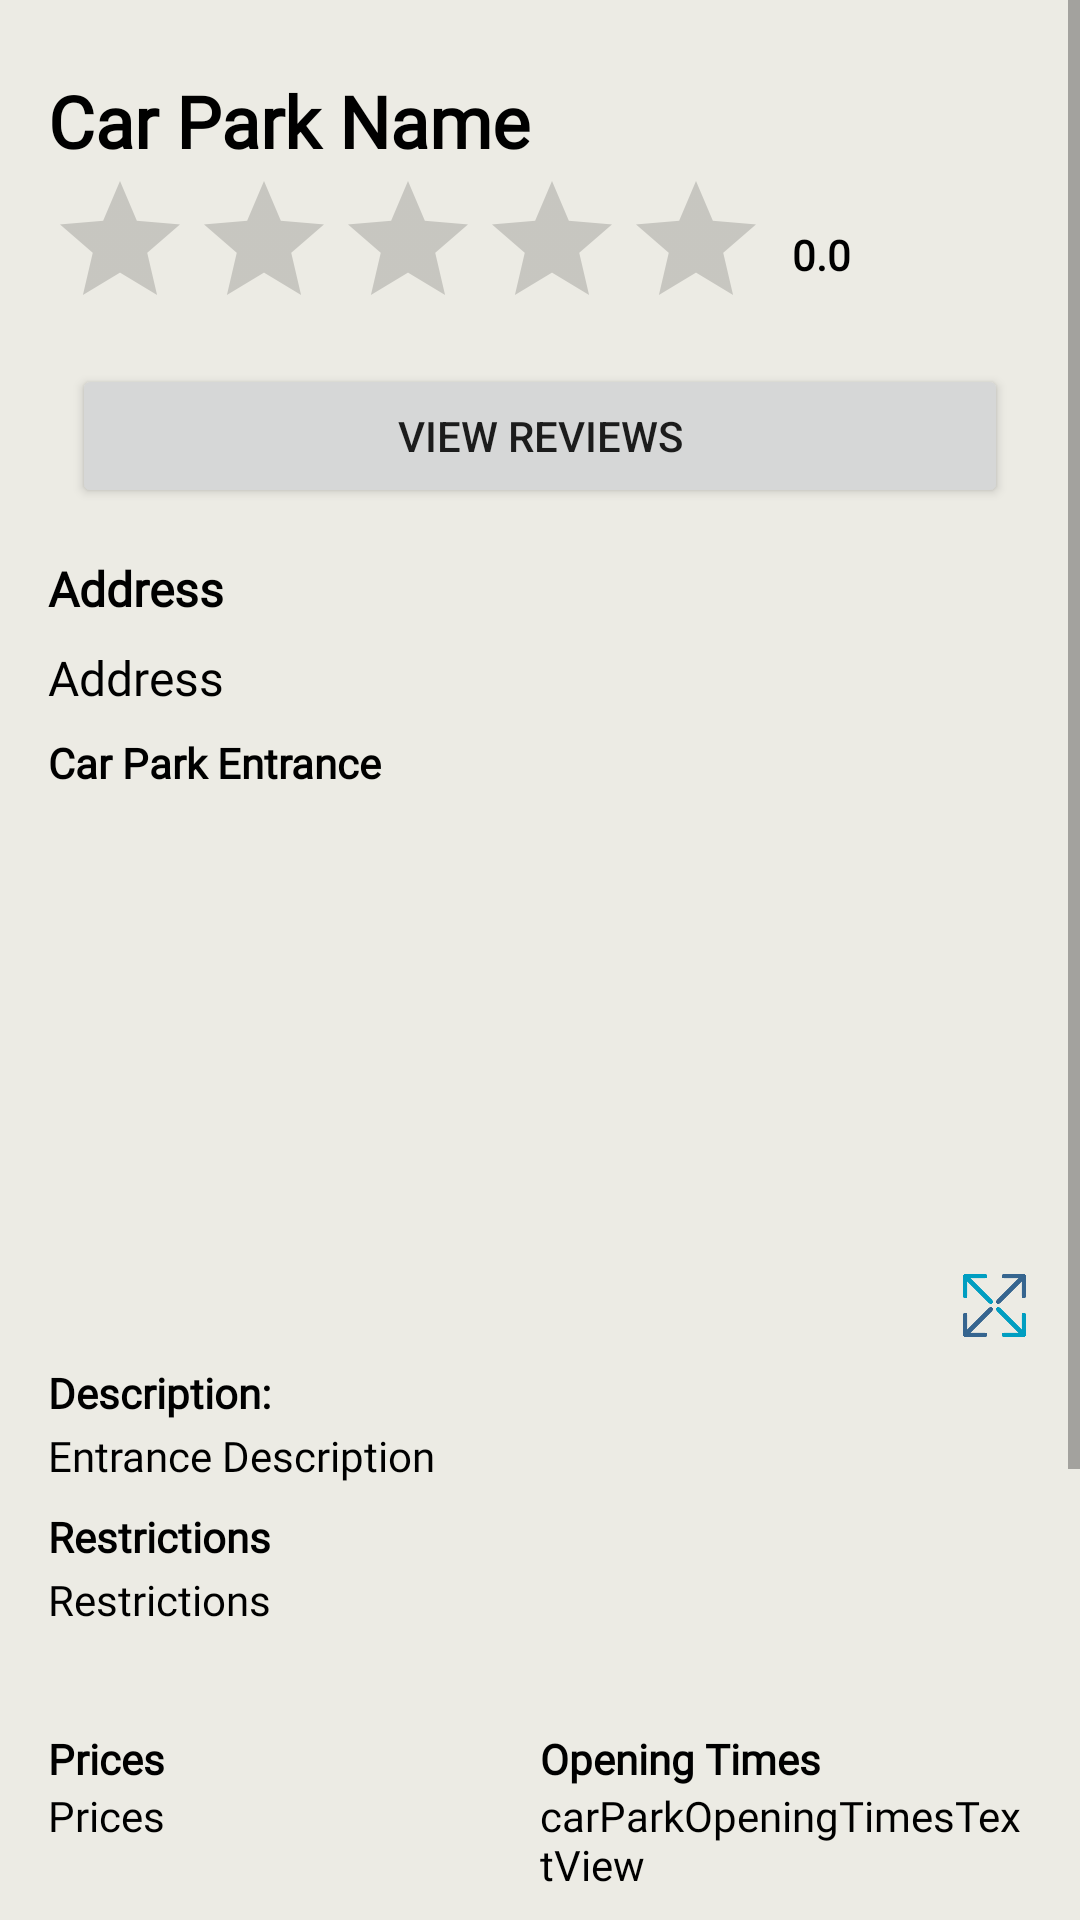

Locate icon controls on the screen. Image size 1080w x 1920h, boxes as (x1, y1, x2, y2).
enlargeicon: (963, 1274, 1026, 1337)
